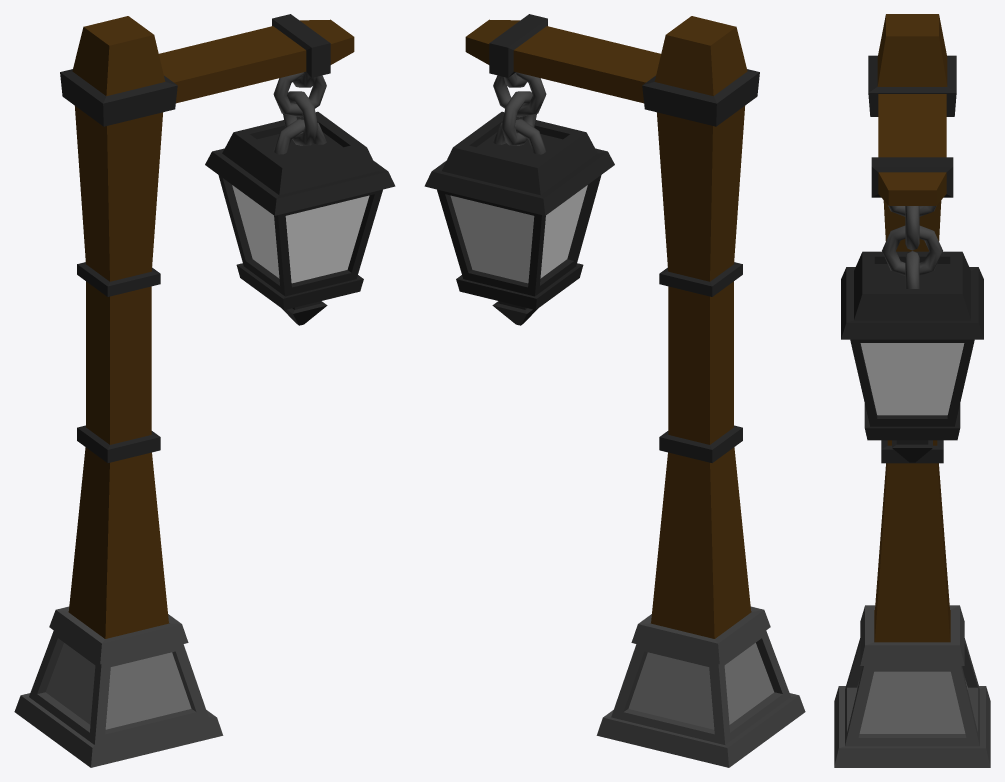
Rendered from Lanterne sans socle (1).fbx.
The picture shows the model from 3 angles, left to right: view 1: azimuth 30°, elevation 25°; view 2: azimuth 150°, elevation 25°; view 3: azimuth 270°, elevation 25°; orthographic projection. The views are drawn at different scales.
Parts seen in each view (by area): view 1: Cube; view 2: Cube; view 3: Cube.
Part boxes in pixels (bbox=[...]): Cube: bbox=[14, 14, 395, 767]; Cube: bbox=[424, 14, 805, 767]; Cube: bbox=[834, 14, 990, 767].
Size of the model in its own units: 170 by 364 by 72.91.
